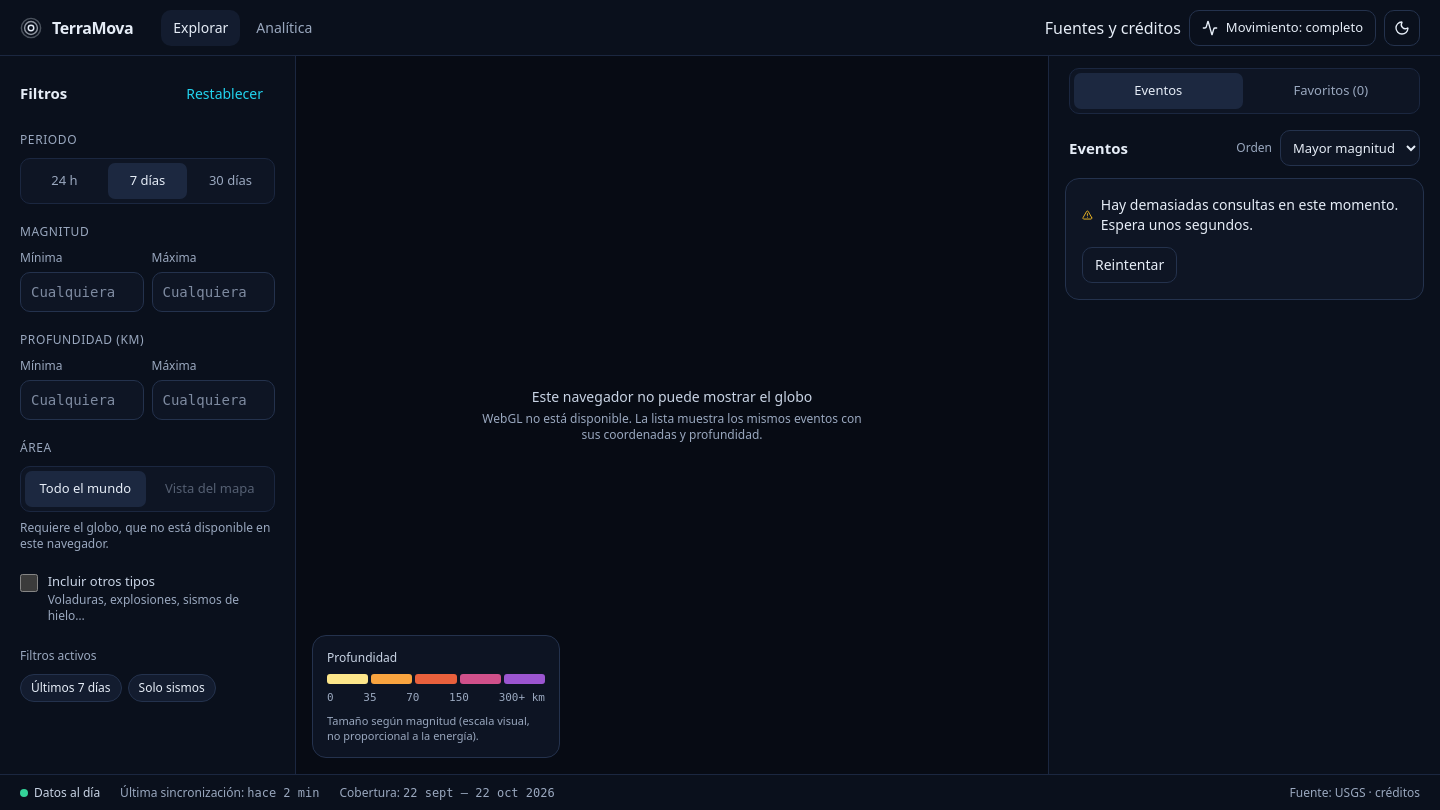
Test case: Explorar › error de la API con reintento que recupera la lista
The width and height of the screenshot is (1440, 810).
Expected: the message "Hay demasiadas consultas en este momento. Espera unos segundos. Reintentar" is shown, [1065, 178, 1424, 300]
Click the button "Reintentar" at (1130, 265), box [1082, 247, 1177, 283]
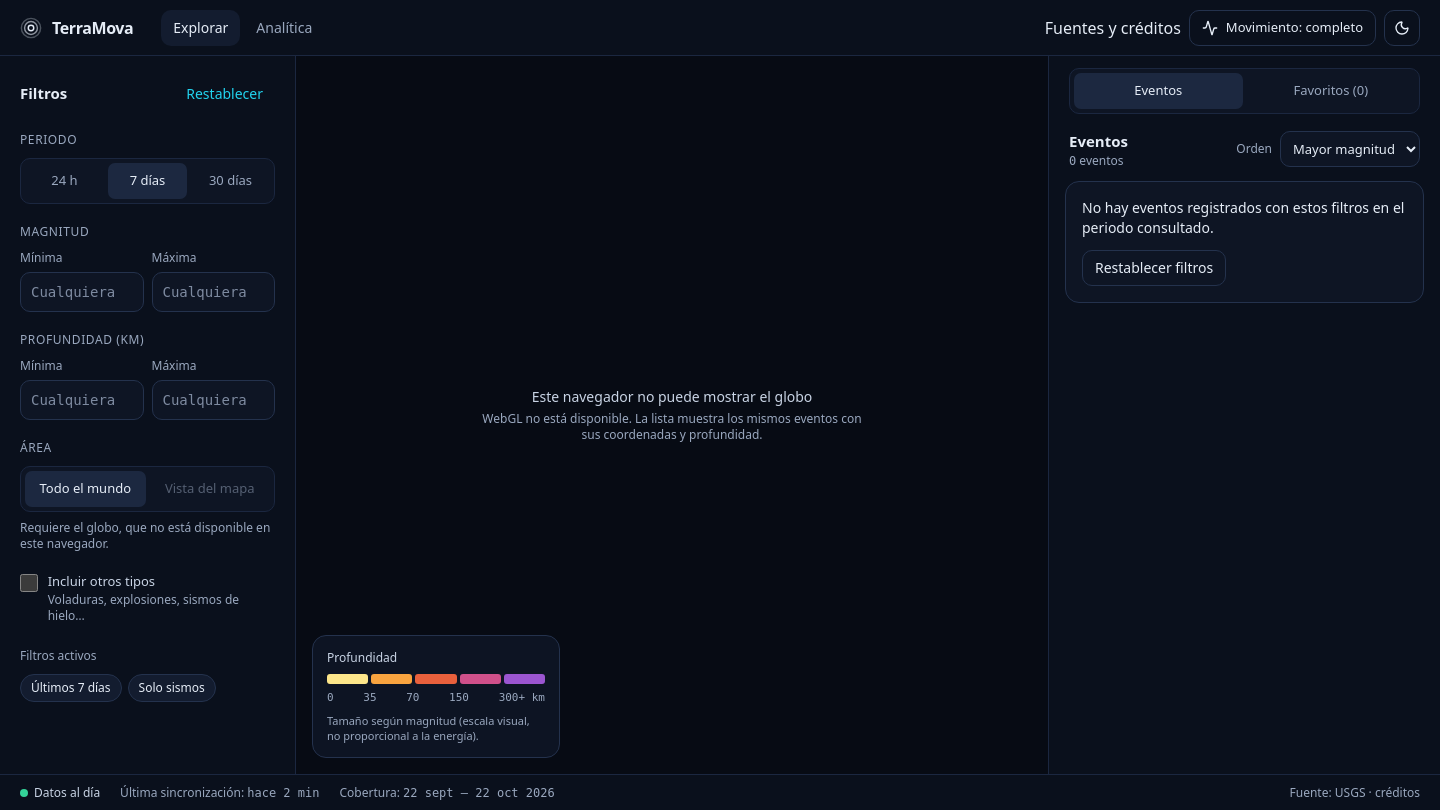
Now the text "No hay eventos registrados" is shown, box [1082, 198, 1404, 236]
